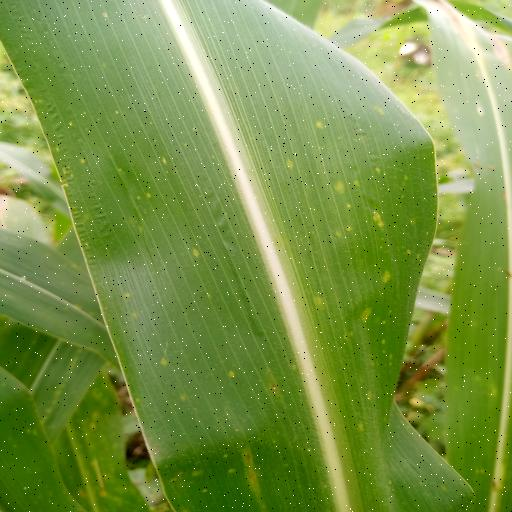Corn_Chlorotic_Leaf_Spot: (0, 0, 466, 512)
